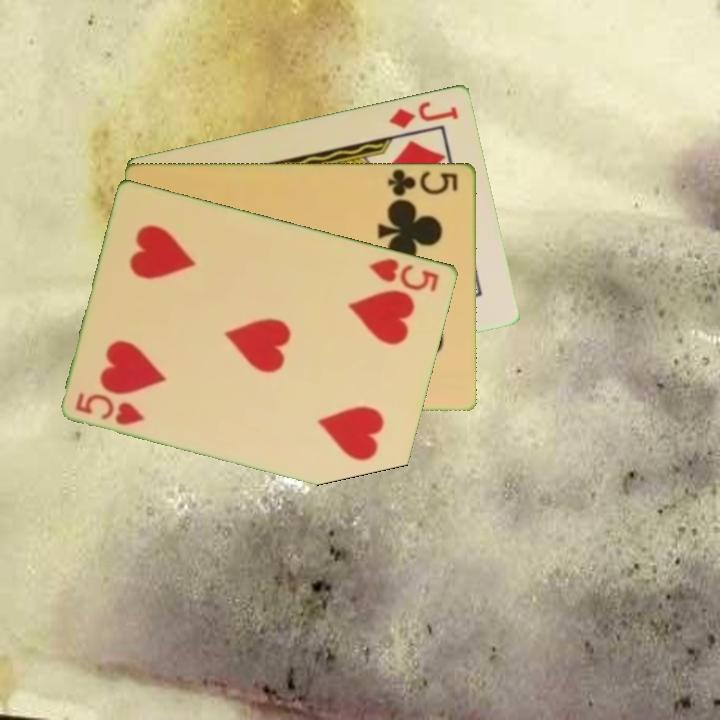5c: (385, 166, 461, 199)
5h: (365, 254, 442, 295), (72, 388, 148, 428)
Jd: (386, 97, 462, 131)
